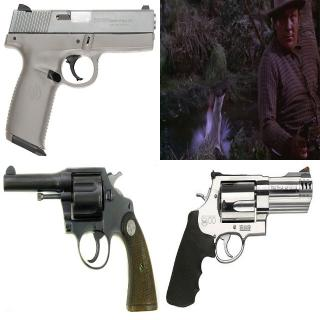gun: (1, 162, 157, 315), (4, 5, 156, 149), (164, 167, 314, 310), (297, 111, 319, 159)
